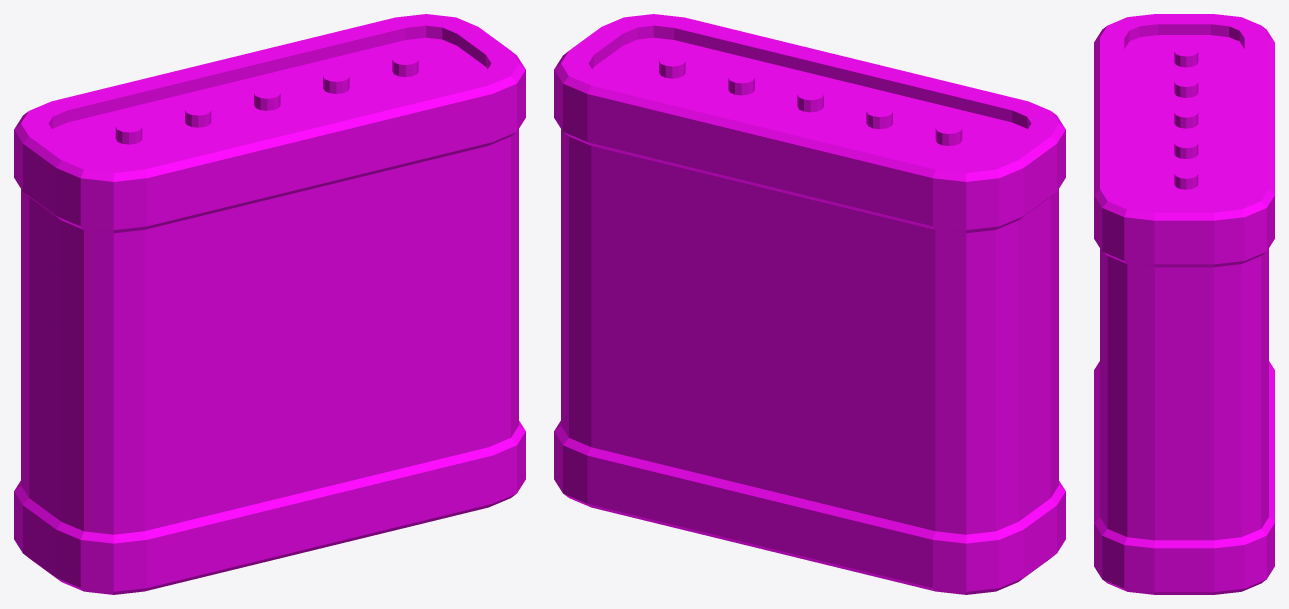
Rendered from Barrier.fbx.
3 views of the same model, side by side, from view 1: azimuth 30°, elevation 25°; view 2: azimuth 150°, elevation 25°; view 3: azimuth 270°, elevation 25° (orthographic). The views are drawn at different scales.
Visible parts, largest first — view 1: Barrier; view 2: Barrier; view 3: Barrier.
Part boxes in pixels (x1,y1,x2,y2): Barrier: (14,14,525,594); Barrier: (554,14,1065,594); Barrier: (1094,14,1274,594).
Bounding box in the file's own units: 400 × 350 × 150.
